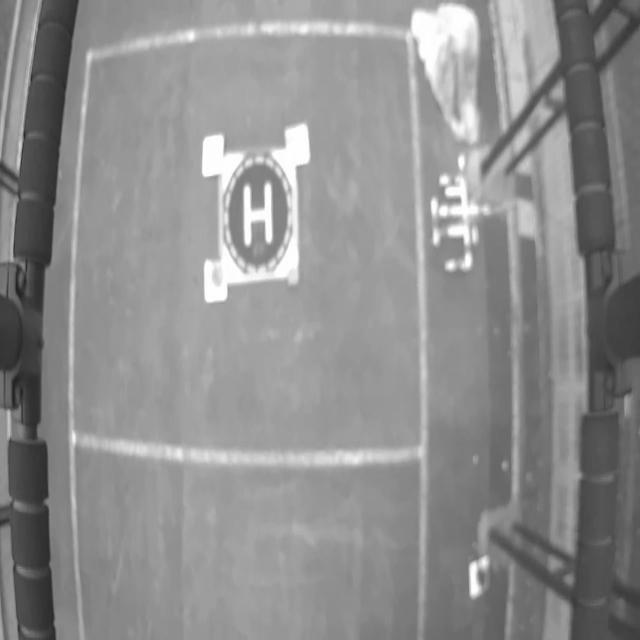Helipad: (244, 183, 273, 247)
